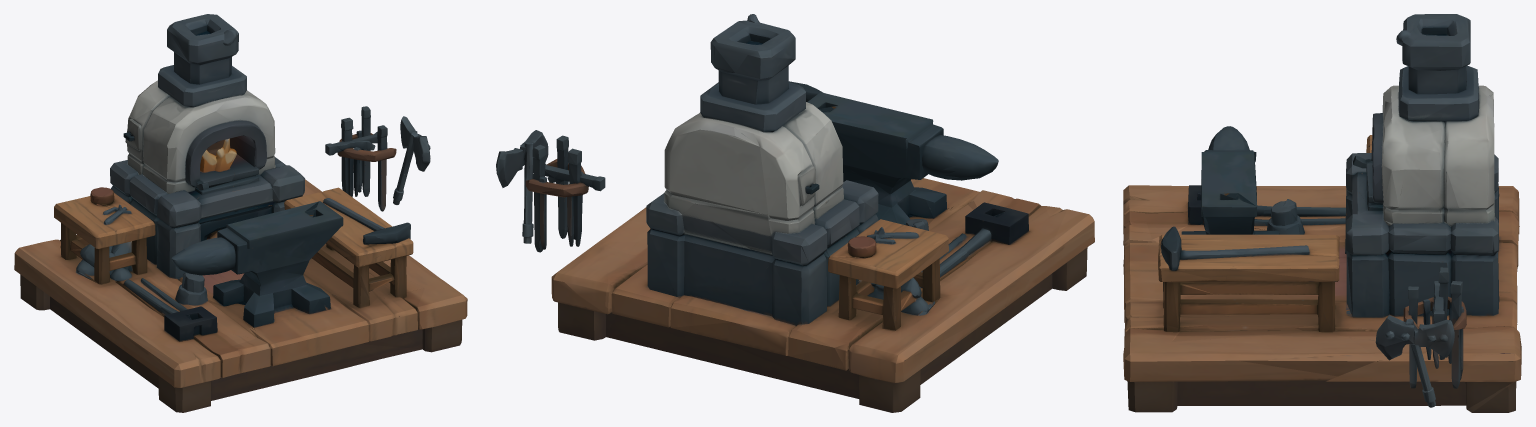
The model's file is quest_booth.glb.
3 views of the same model, side by side, from view 1: azimuth 30°, elevation 25°; view 2: azimuth 150°, elevation 25°; view 3: azimuth 270°, elevation 25° (orthographic). The views are drawn at different scales.
Parts seen in each view (by area): view 1: output_unwrapped; view 2: output_unwrapped; view 3: output_unwrapped.
Boxes of the visible parts, left/top/right/bottom form: output_unwrapped: left=14, top=14, right=467, bottom=412; output_unwrapped: left=496, top=14, right=1094, bottom=412; output_unwrapped: left=1123, top=14, right=1521, bottom=412.
Bounding box in the file's own units: 1.9 × 1.28 × 1.48.
Materials: 1 (1 with a texture image).
